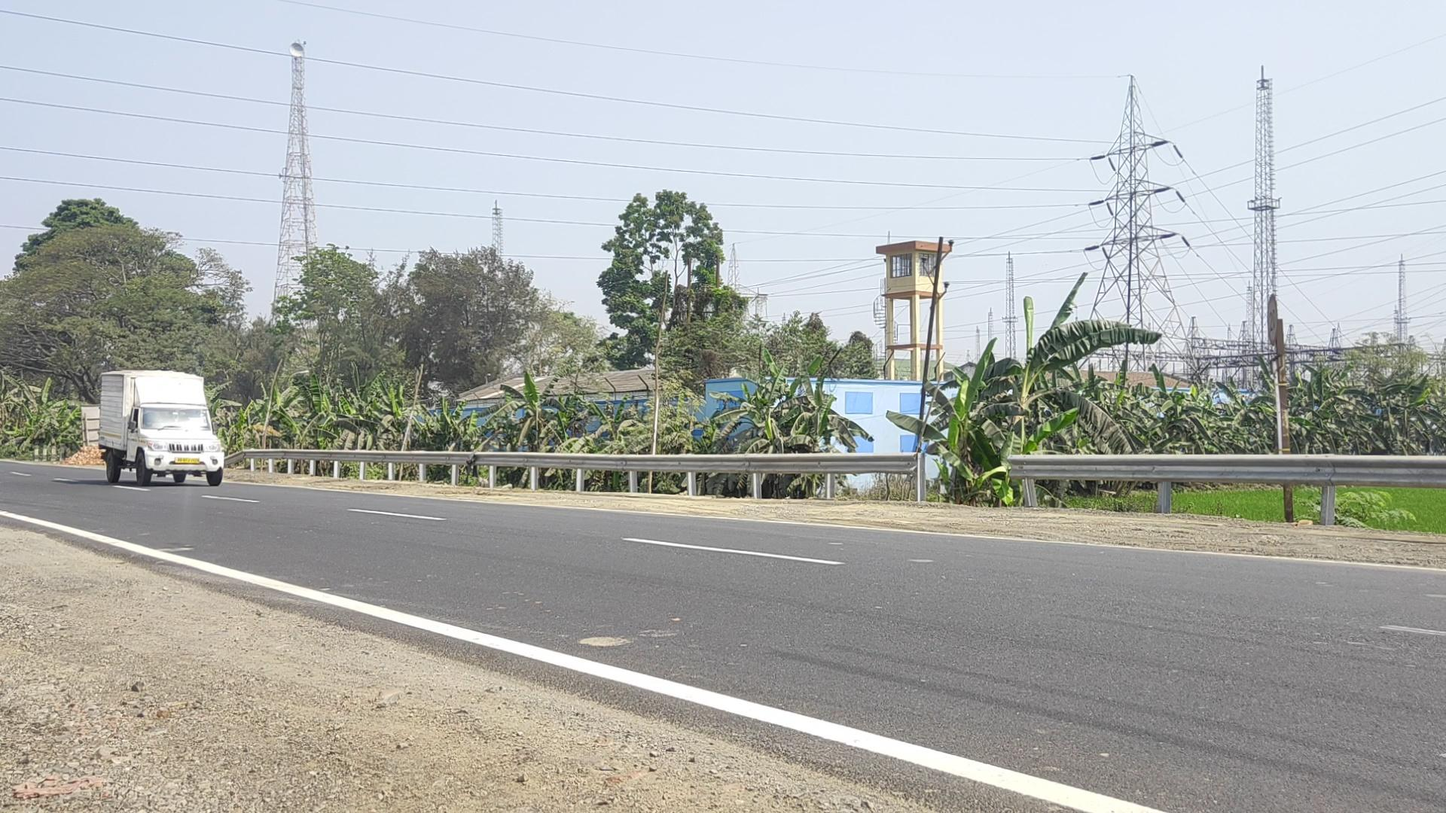van: (99, 368, 224, 488)
